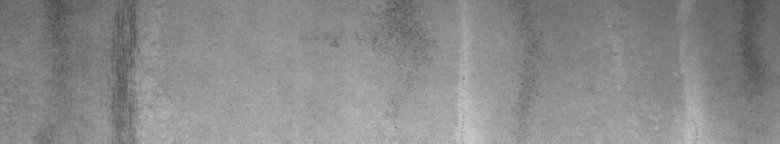ka: (40, 4, 156, 135)
